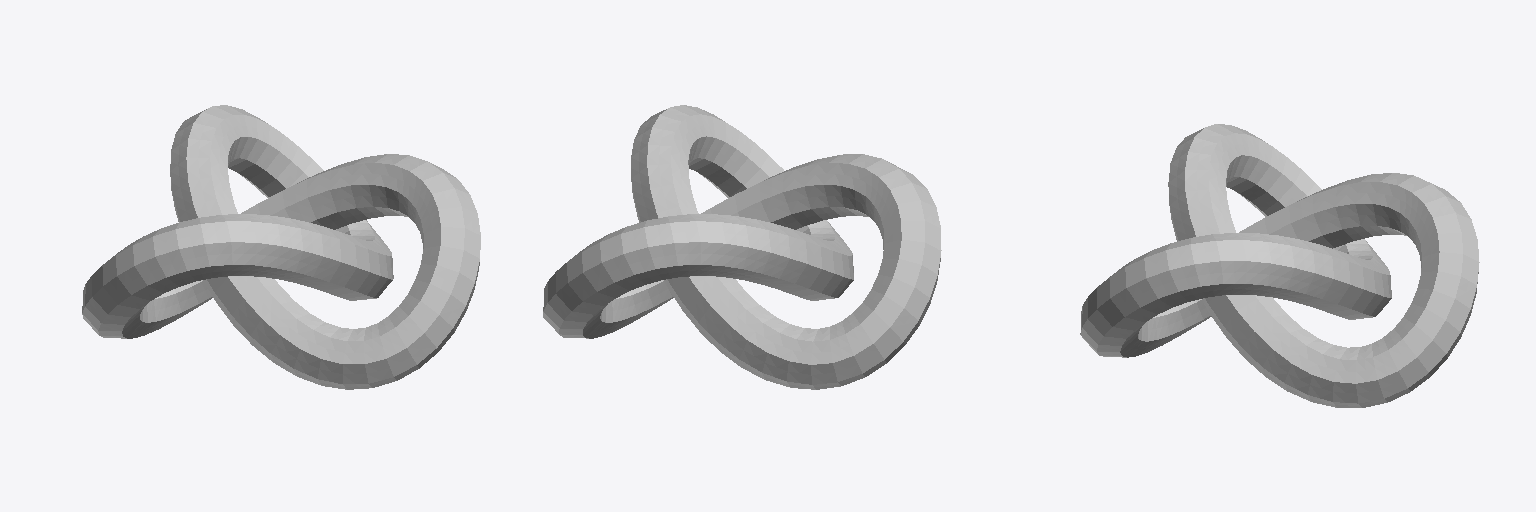
Rendered from torusknot_uv.obj.
The picture shows the model from 3 angles: view 1: azimuth 30°, elevation 25°; view 2: azimuth 150°, elevation 25°; view 3: azimuth 270°, elevation 25°; orthographic projection.
Parts seen in each view (by area): view 1: TorusKnot; view 2: TorusKnot; view 3: TorusKnot.
Part boxes in pixels (bbox=[...]): TorusKnot: bbox=[82, 105, 480, 389]; TorusKnot: bbox=[543, 105, 941, 389]; TorusKnot: bbox=[1080, 124, 1479, 407].
Bounding box in the file's own units: 6.04 × 2.96 × 6.41.